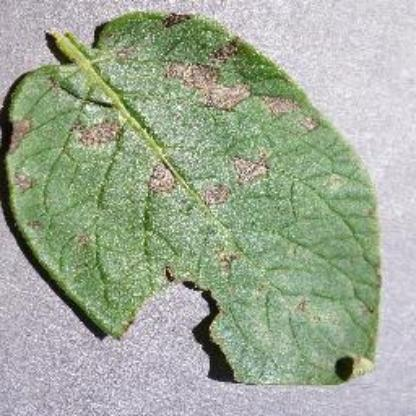Early-Blight: (6, 9, 386, 385)
